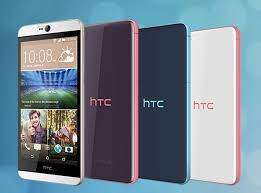htc: (15, 18, 86, 184), (84, 17, 137, 183), (188, 21, 239, 188), (137, 20, 187, 184)
